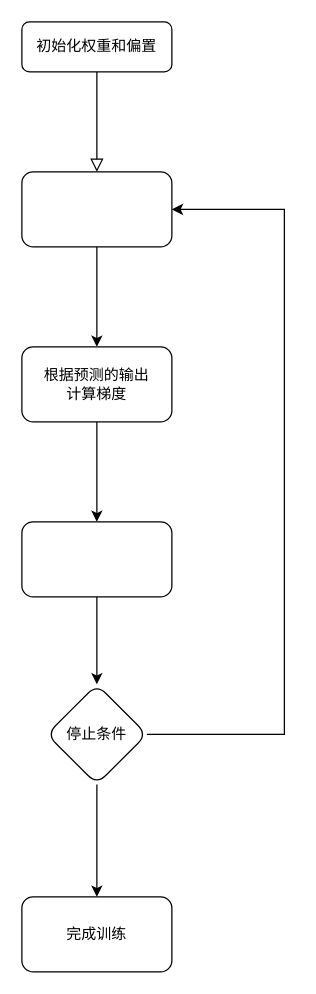
Some shapes in this 316 by 994 pixel diagram are drawn without their labels. The centre of each missing label's shape, as x and y in pixels:
"按更新策略 对参数进行更新" belongs at point 96,559.
"根据输入预测输出" belongs at point 96,209.
